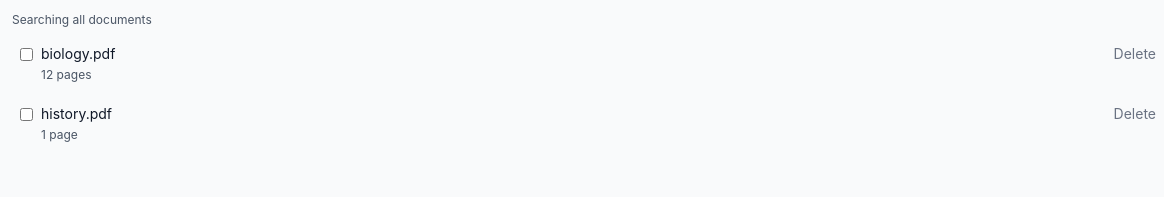
Test: DocumentList › shows a failed delete on that row
Click the button with aria-label "Delete biology.pdf" at {"x": 1135, "y": 54}, box [1114, 44, 1156, 64]
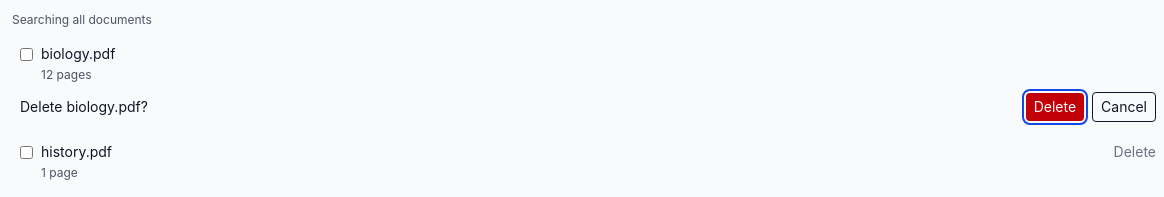
Click the 1st button "Delete" at {"x": 1055, "y": 107}, box [1026, 93, 1084, 121]
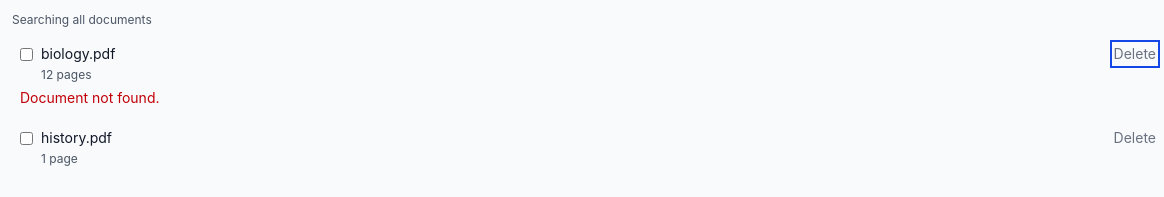
Check: the button with aria-label "Delete biology.pdf" is shown, box [1114, 44, 1156, 64]
Check: the message reads "Document not found.", box [20, 89, 160, 106]
